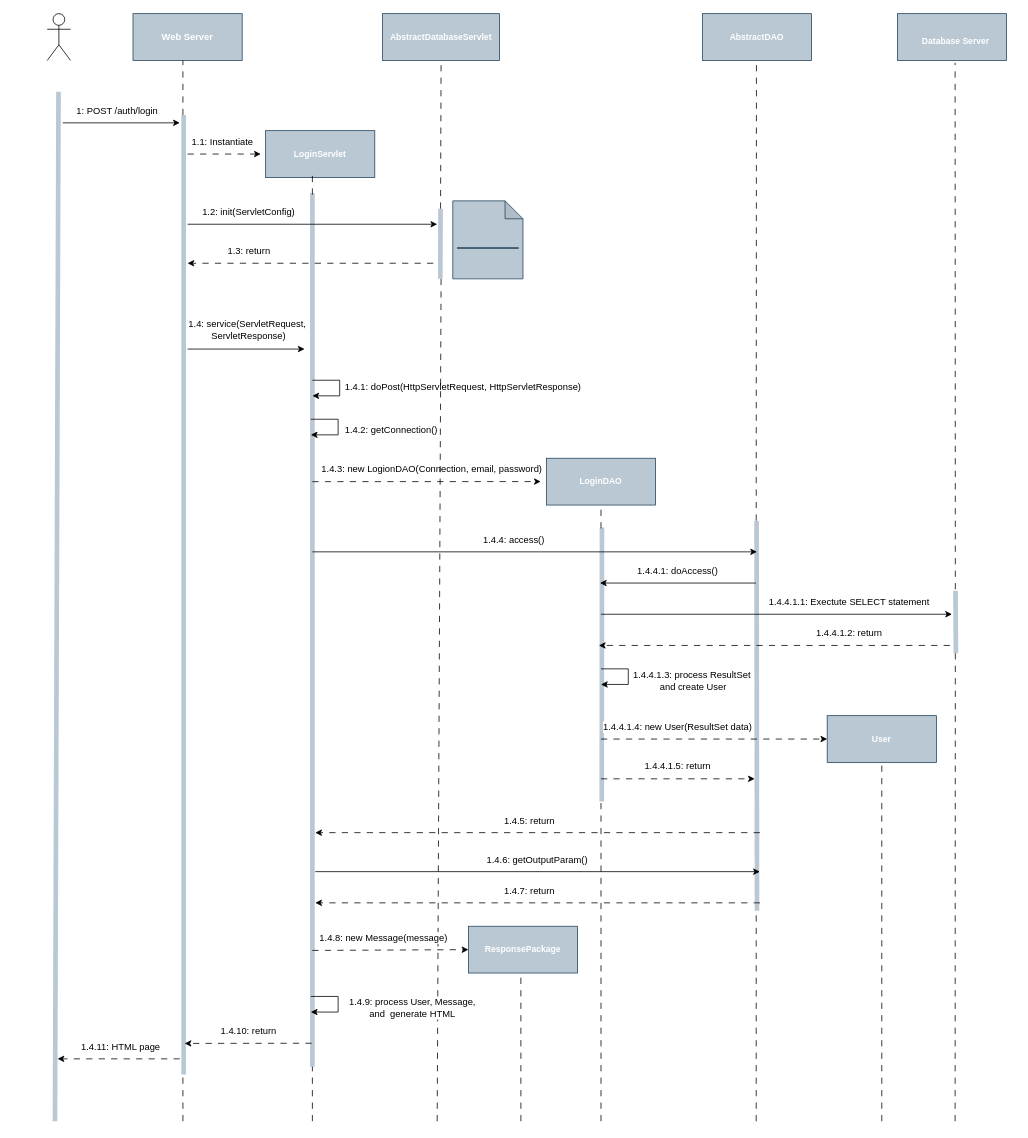
The diagram is 1028 pixels wide and 1138 high, and some of its shapes have lost their labels. Each missing label, with the centre of its shape:
Actor: point 58,36
Obtains the datasource from the JDNI context: point 487,239
